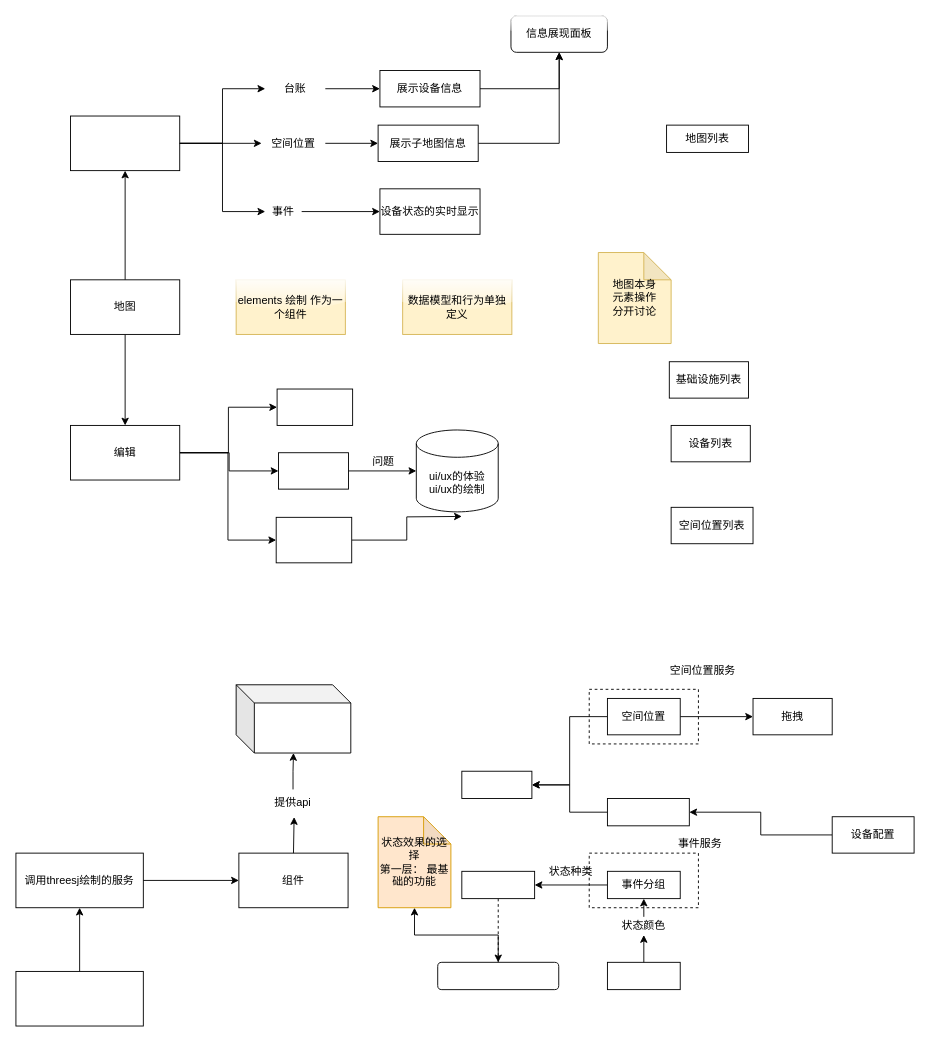
The diagram is 930 pixels wide and 1042 high, and some of its shapes have lost their labels. Here are the shapes that lost their labels. From the top down, the centre of each, then its label:
the point at 125,143: 展示
the point at 314,406: 选中效果
the point at 313,470: 设备移动/缩放/旋转
the point at 313,539: 子地图大小/位置设置
the point at 293,718: 输入 输出调用
the point at 496,784: 设备展示
the point at 648,812: 设备图标
the point at 498,884: 状态展示
the point at 498,975: 特殊情况： 火警闪动
the point at 643,975: 事件配置
the point at 79,998: 封装threejs绘制的服务
